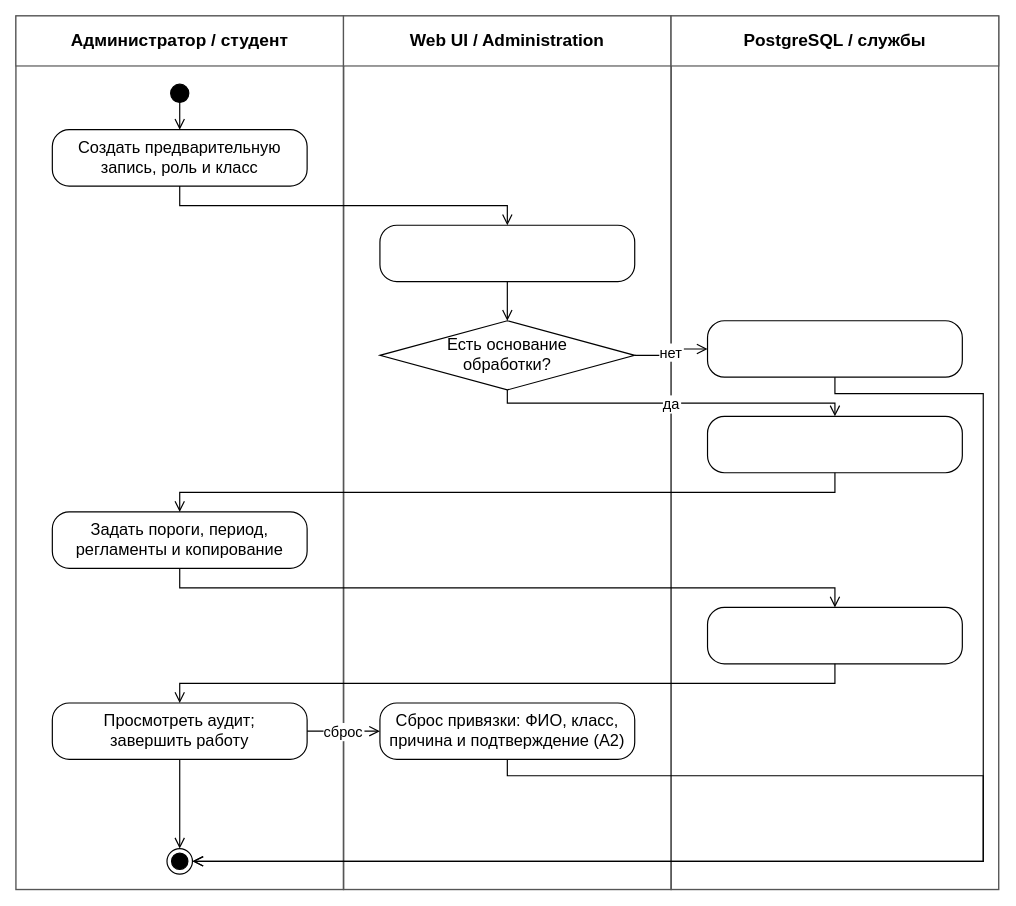
Image size: 1016x906. Some labels were removed from this diagram. The centre of each missing label's shape, as x and y in pixels:
Активировать; привязать проверочный ключ устройства: pixel 835 444
Выдать одноразовую активацию: pixel 507 253
Оставить pending; проверить полномочия представителя (А1): pixel 835 348
Сохранить версии настроек и аудит изменений: pixel 835 635
